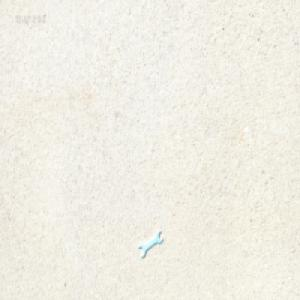Wrench: (139, 230, 164, 258)
